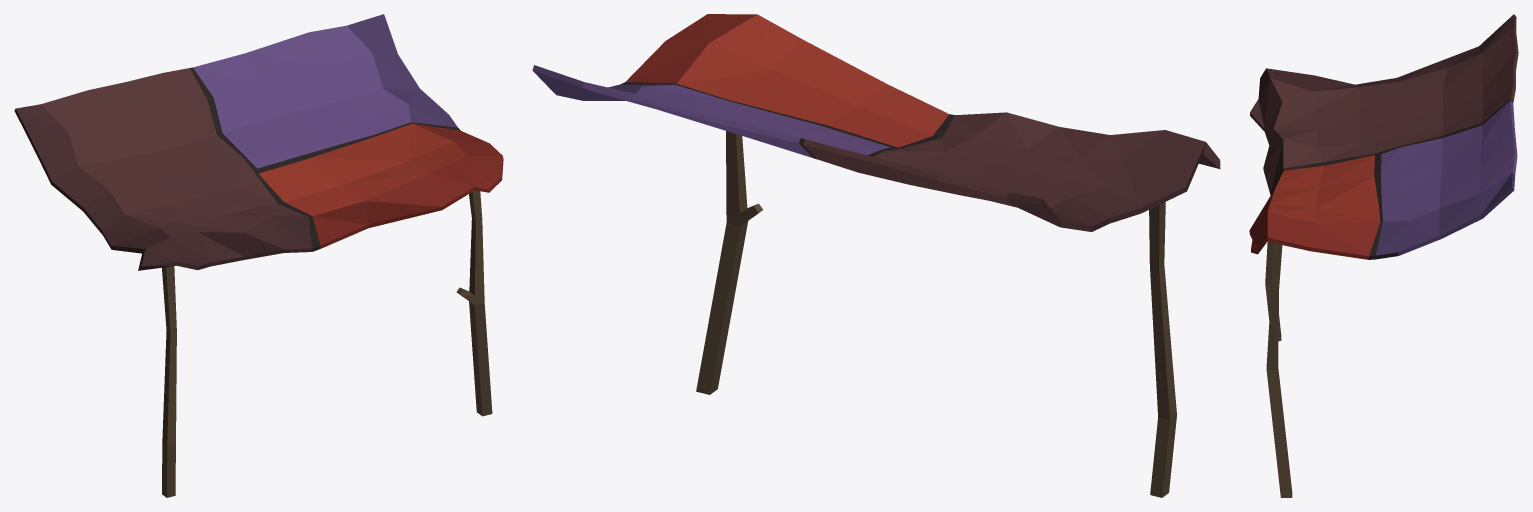
File: SM_Prop_Stall_Cloth_01.glb
3 views of the same model, side by side, from view 1: azimuth 30°, elevation 25°; view 2: azimuth 150°, elevation 25°; view 3: azimuth 270°, elevation 25° (orthographic). The views are drawn at different scales.
Visible parts, largest first — view 1: SM_Prop_Stall_Cloth_01_part00; view 2: SM_Prop_Stall_Cloth_01_part00; view 3: SM_Prop_Stall_Cloth_01_part00.
Boxes of the visible parts, x1=… form: SM_Prop_Stall_Cloth_01_part00: x1=14, y1=14, x2=503, y2=497; SM_Prop_Stall_Cloth_01_part00: x1=532, y1=14, x2=1220, y2=497; SM_Prop_Stall_Cloth_01_part00: x1=1249, y1=14, x2=1518, y2=497.
Bounding box in the file's own units: 3.73 × 2.95 × 2.29.
1 material, 1 textured.
